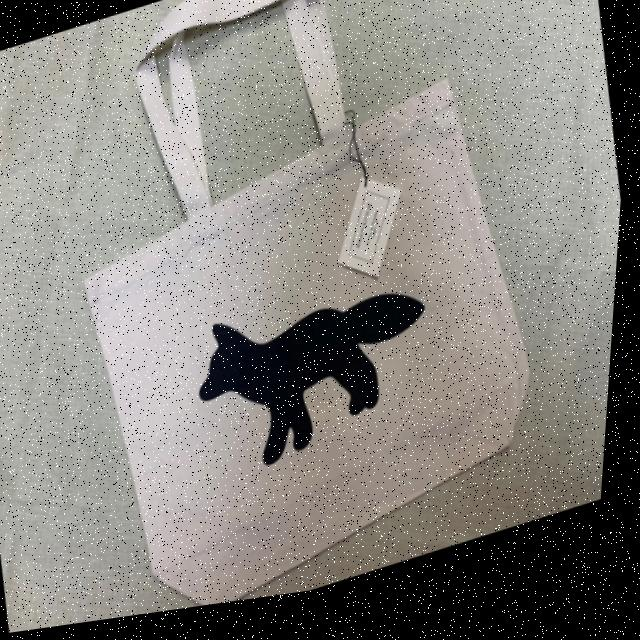ecobag: (8, 0, 598, 635)
